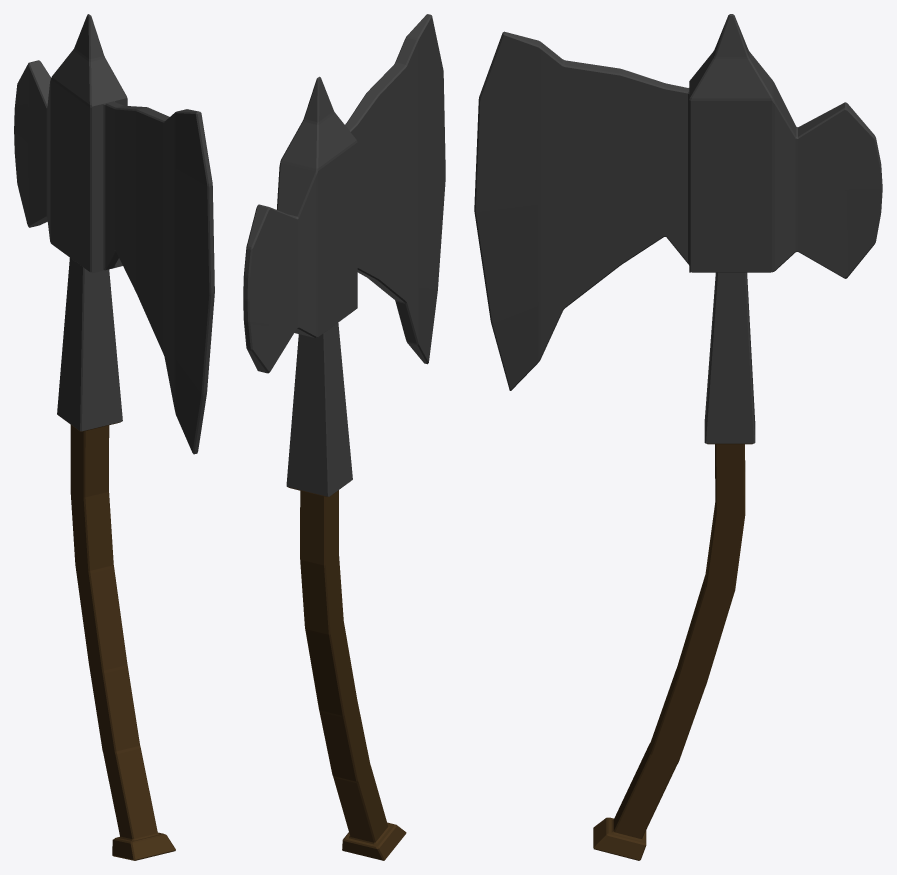
Rendered from axe.fbx.
3 views of the same model, side by side, from view 1: azimuth 30°, elevation 25°; view 2: azimuth 150°, elevation 25°; view 3: azimuth 270°, elevation 25° (orthographic). The views are drawn at different scales.
Visible parts, largest first — view 1: axe; view 2: axe; view 3: axe.
Boxes of the visible parts, x1=… form: axe: x1=14, y1=14, x2=214, y2=860; axe: x1=243, y1=14, x2=445, y2=860; axe: x1=474, y1=14, x2=882, y2=860.
Bounding box in the file's own units: 2.55 × 45.69 × 20.2.
